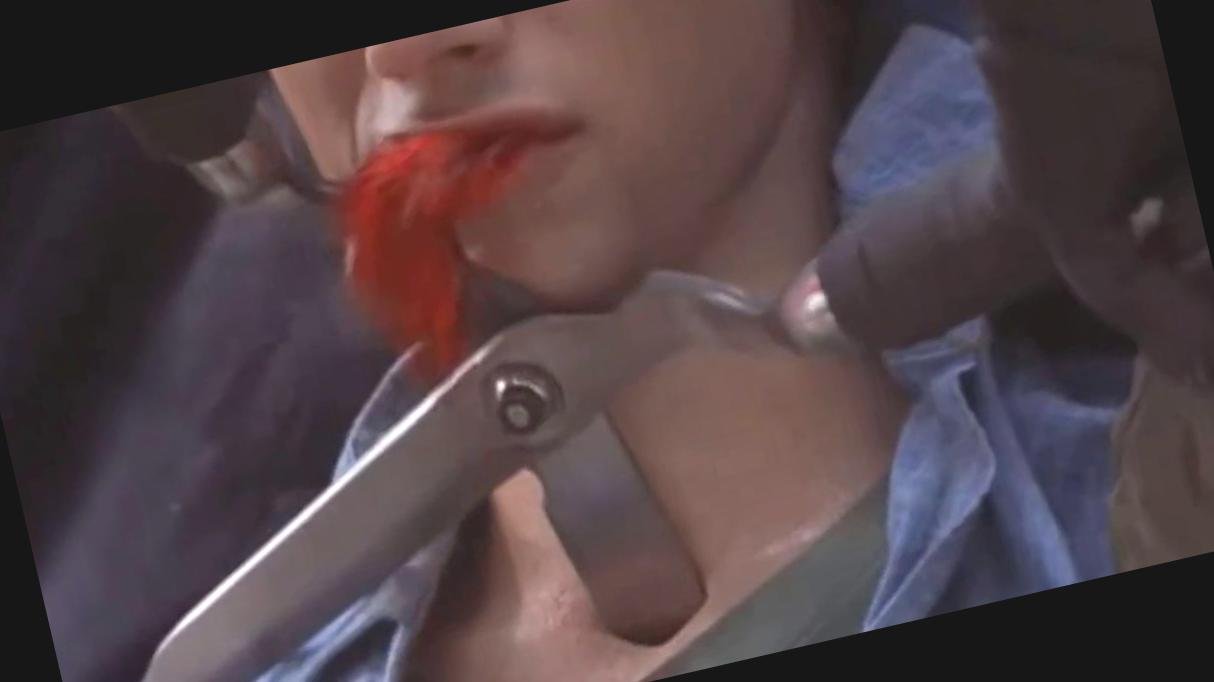Fire: (336, 127, 534, 374)
